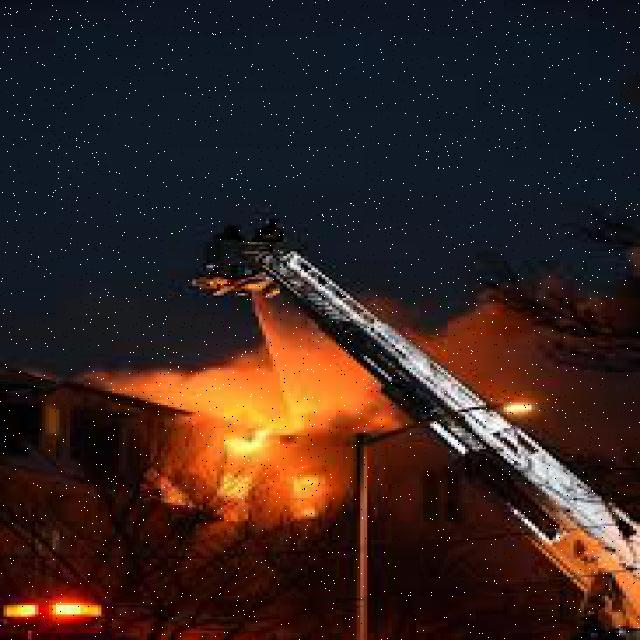fire: (212, 392, 322, 511)
light: (502, 394, 542, 426)
